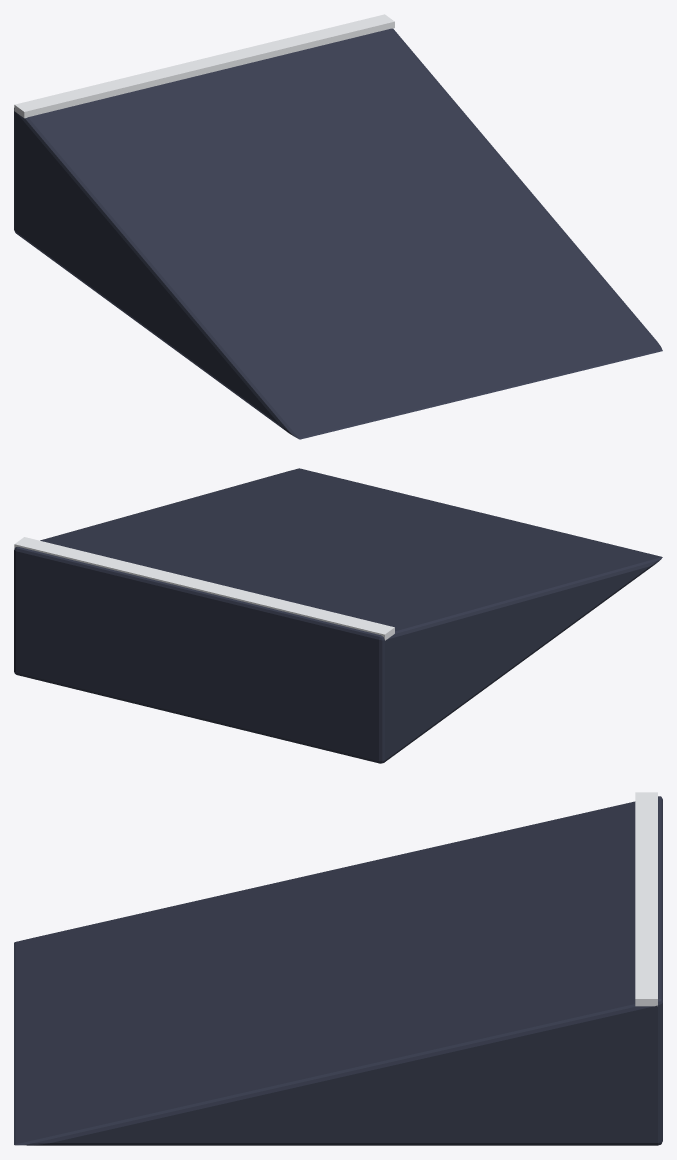
Rendered from tremplin.glb.
The picture shows the model from 3 angles, top to bottom: view 1: azimuth 30°, elevation 25°; view 2: azimuth 150°, elevation 25°; view 3: azimuth 270°, elevation 25°; orthographic projection. The views are drawn at different scales.
Parts seen in each view (by area): view 1: Tremplin, Bord; view 2: Tremplin, Bord; view 3: Tremplin, Bord.
Part boxes in pixels (x1,y1,x2,y2): Tremplin: (14, 28, 662, 439); Bord: (14, 14, 394, 118); Tremplin: (14, 468, 662, 763); Bord: (14, 537, 394, 640); Tremplin: (14, 796, 662, 1145); Bord: (635, 792, 657, 1006).
Bounding box in the file's own units: 3 × 1.01 × 3.98.
